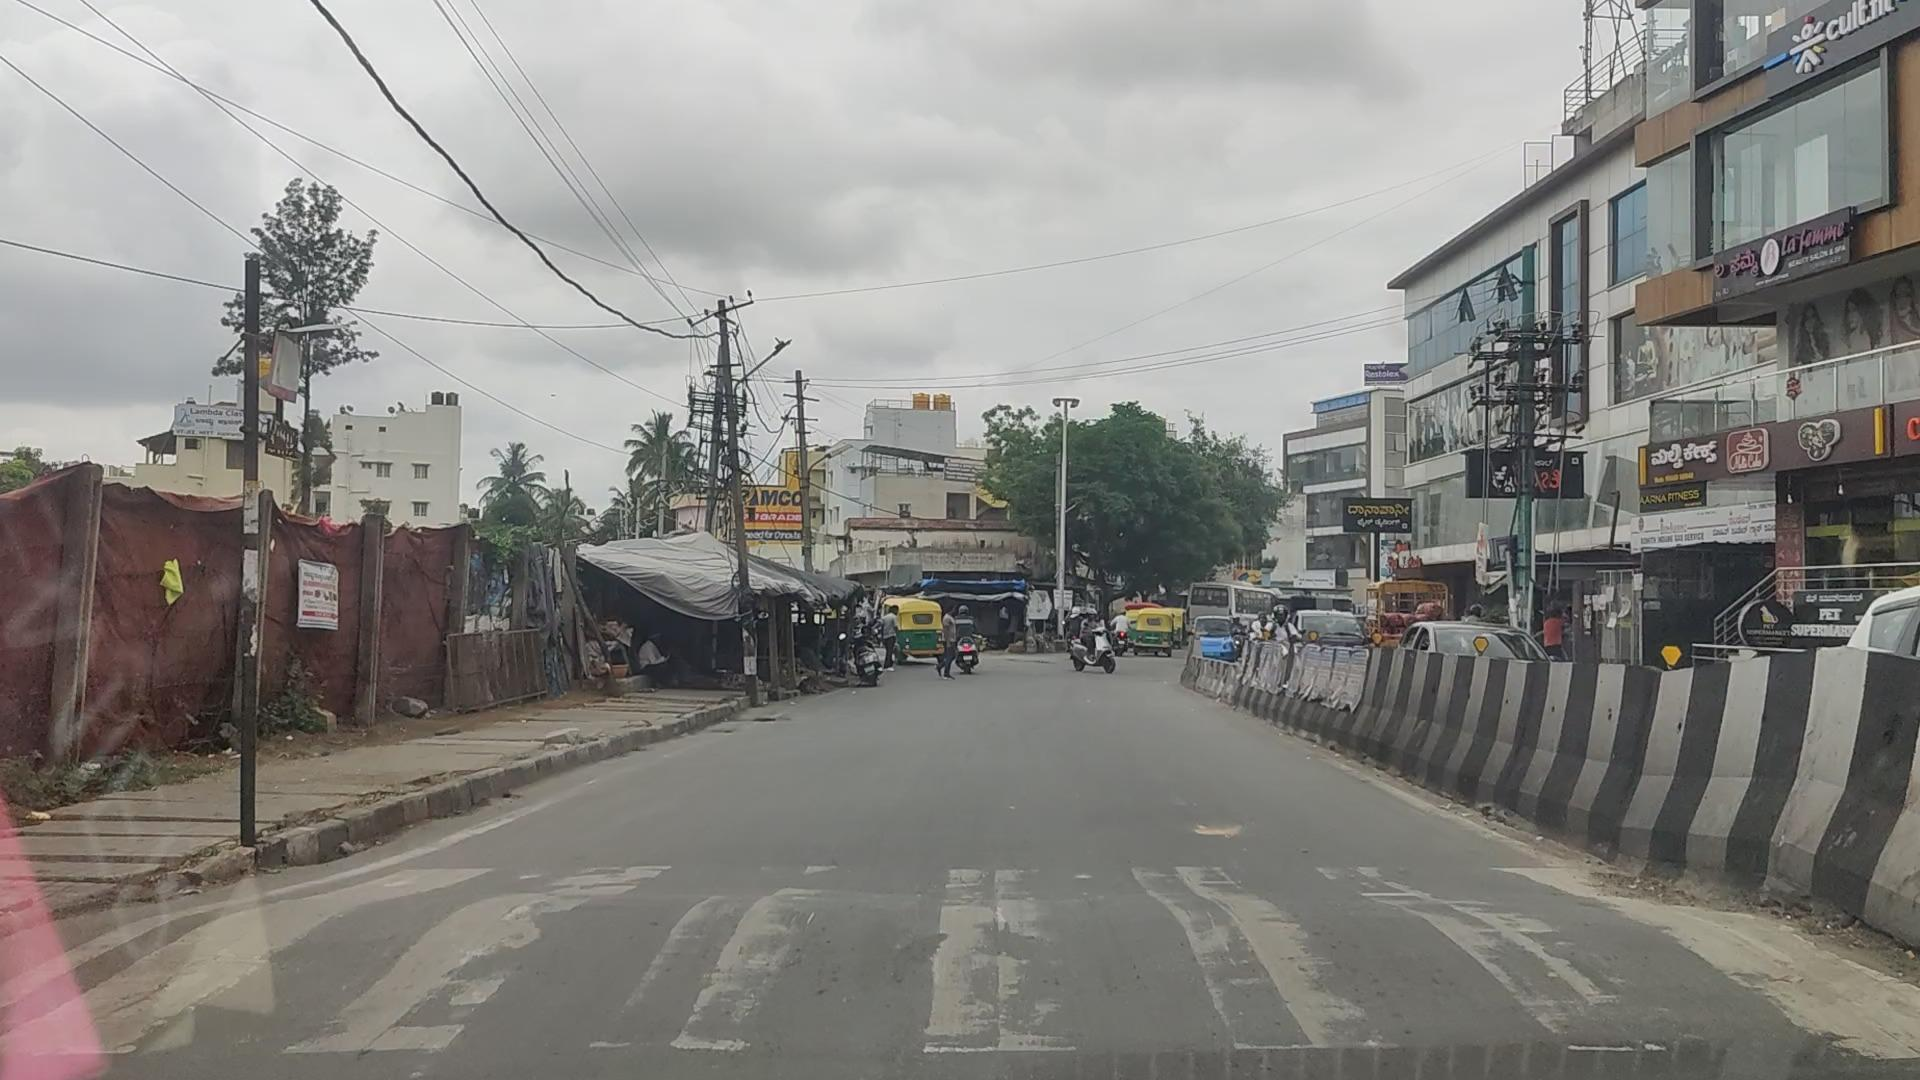SpeedBump: (58, 869, 1805, 1036)
